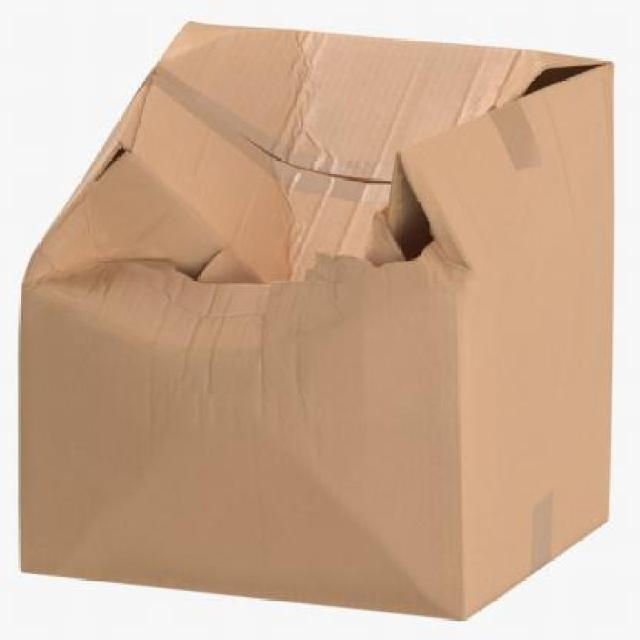box: (19, 19, 616, 621)
crushed: (25, 22, 613, 361)
